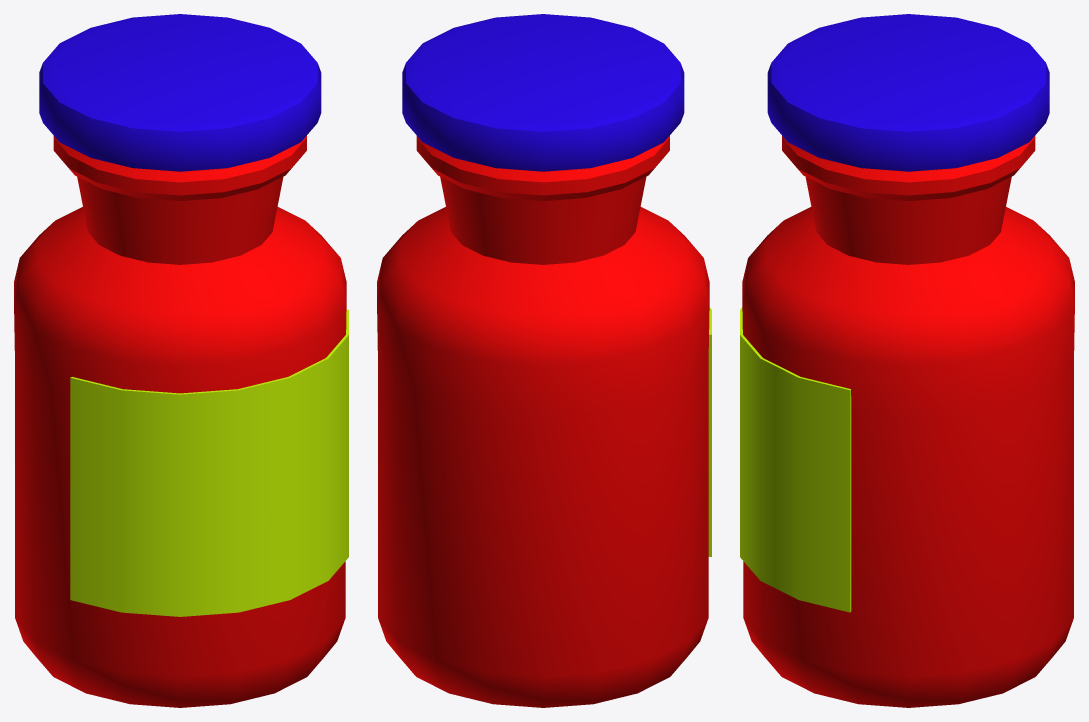
Rendered from 广口瓶125.FBX.
The picture shows the model from 3 angles, left to right: view 1: azimuth 30°, elevation 25°; view 2: azimuth 150°, elevation 25°; view 3: azimuth 270°, elevation 25°; orthographic projection.
Parts seen in each view (by area): view 1: 瓶身, 标签, 盖子; view 2: 瓶身, 盖子, 标签; view 3: 瓶身, 盖子, 标签.
Boxes of the visible parts, x1,y1,x2,y2 form: 瓶身: (14, 136, 346, 707); 标签: (70, 309, 348, 616); 盖子: (39, 14, 321, 171); 瓶身: (377, 136, 709, 707); 盖子: (402, 14, 684, 171); 标签: (708, 307, 711, 556); 瓶身: (742, 136, 1074, 707); 盖子: (767, 14, 1049, 171); 标签: (740, 307, 851, 612).
Bounding box in the file's own units: 7.3 × 13.74 × 7.24.
